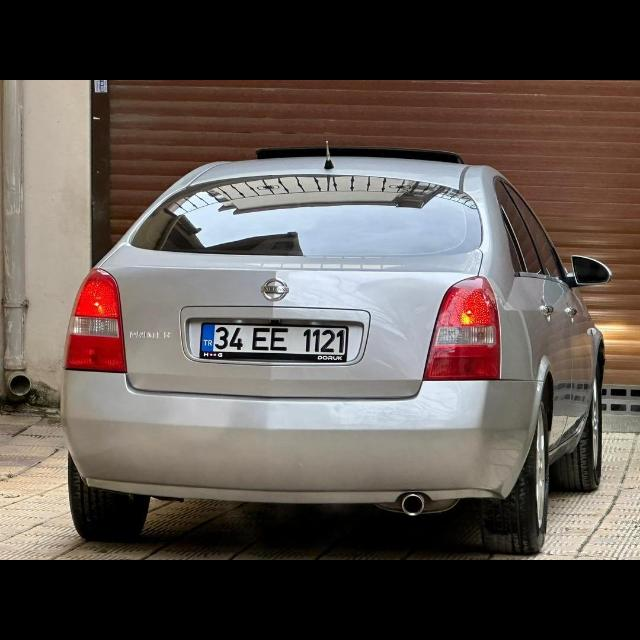Plaka: (198, 324, 344, 356)
